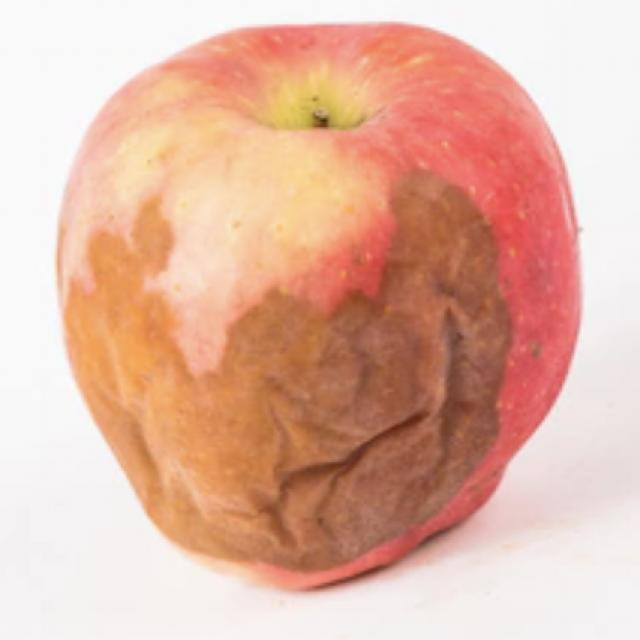Rotten: (78, 52, 597, 578)
